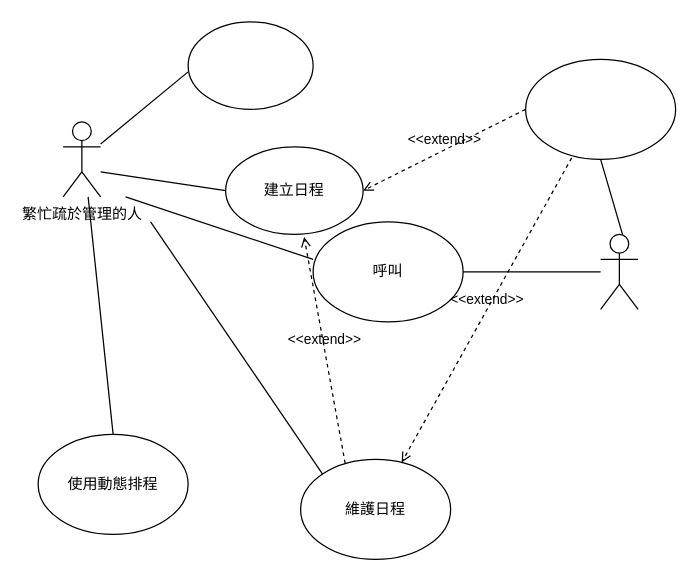
This 698x581 diagram has some shape labels left out. The centre of each missing label's shape, as x and y in pixels:
"ChatGpt" goes at (618,271).
"推薦日程" goes at (600,108).
"登入" goes at (250,65).
